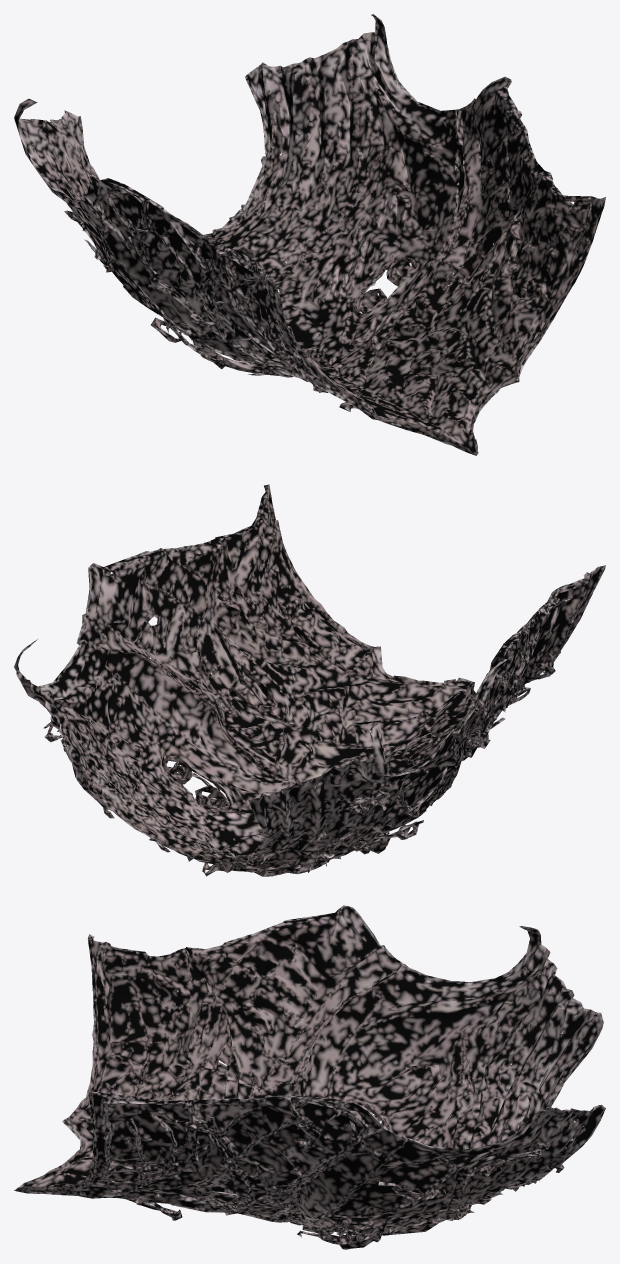
File: vampire_chestplate_LOD0.glb
The picture shows the model from 3 angles, top to bottom: view 1: azimuth 30°, elevation 25°; view 2: azimuth 150°, elevation 25°; view 3: azimuth 270°, elevation 25°; orthographic projection. The views are drawn at different scales.
Visible parts, largest first — view 1: vampire_chestplate_LOD0; view 2: vampire_chestplate_LOD0; view 3: vampire_chestplate_LOD0.
Boxes of the visible parts, x1=… form: vampire_chestplate_LOD0: x1=14, y1=14, x2=605, y2=455; vampire_chestplate_LOD0: x1=14, y1=484, x2=605, y2=876; vampire_chestplate_LOD0: x1=14, y1=905, x2=605, y2=1249.
Size of the model in its own units: 0.5929 by 0.3327 by 0.7733.
Materials: 1 (1 with a texture image).
